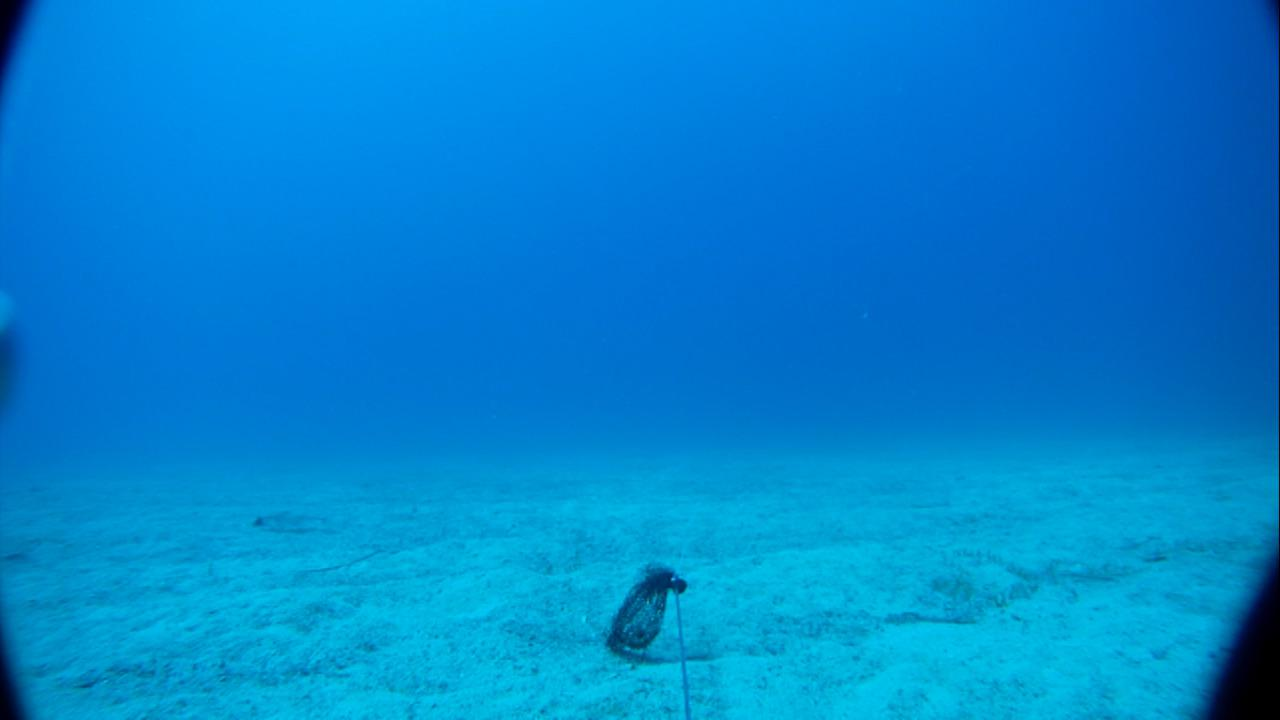dactylopterus: (248, 502, 336, 534)
